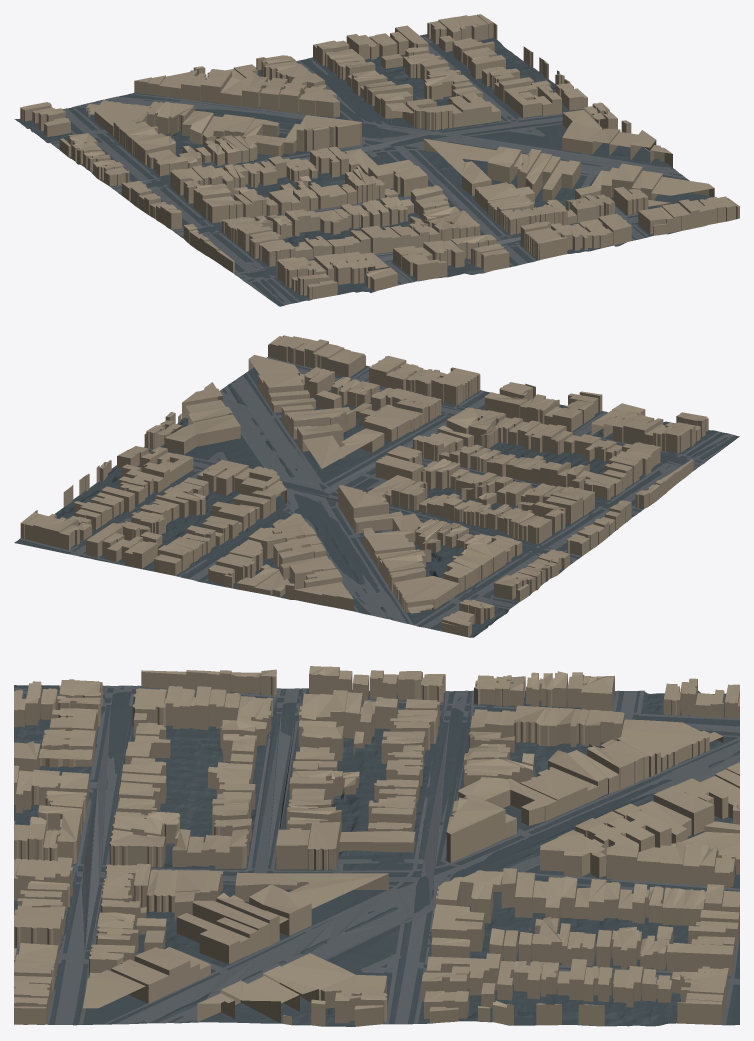
Rendered from epsg26910-1432-10885.lod0.glb.
3 renders of one model, top to bottom at view 1: azimuth 30°, elevation 25°; view 2: azimuth 150°, elevation 25°; view 3: azimuth 270°, elevation 25°, orthographic. The views are drawn at different scales.
Parts seen in each view (by area): view 1: epsg26910-1432-10885-lod0; view 2: epsg26910-1432-10885-lod0; view 3: epsg26910-1432-10885-lod0.
Part boxes in pixels (x1=…): epsg26910-1432-10885-lod0: x1=14, y1=14, x2=739, y2=306; epsg26910-1432-10885-lod0: x1=14, y1=335, x2=739, y2=637; epsg26910-1432-10885-lod0: x1=14, y1=666, x2=739, y2=1026.
Size of the model in its own units: 384 by 33.98 by 384.
